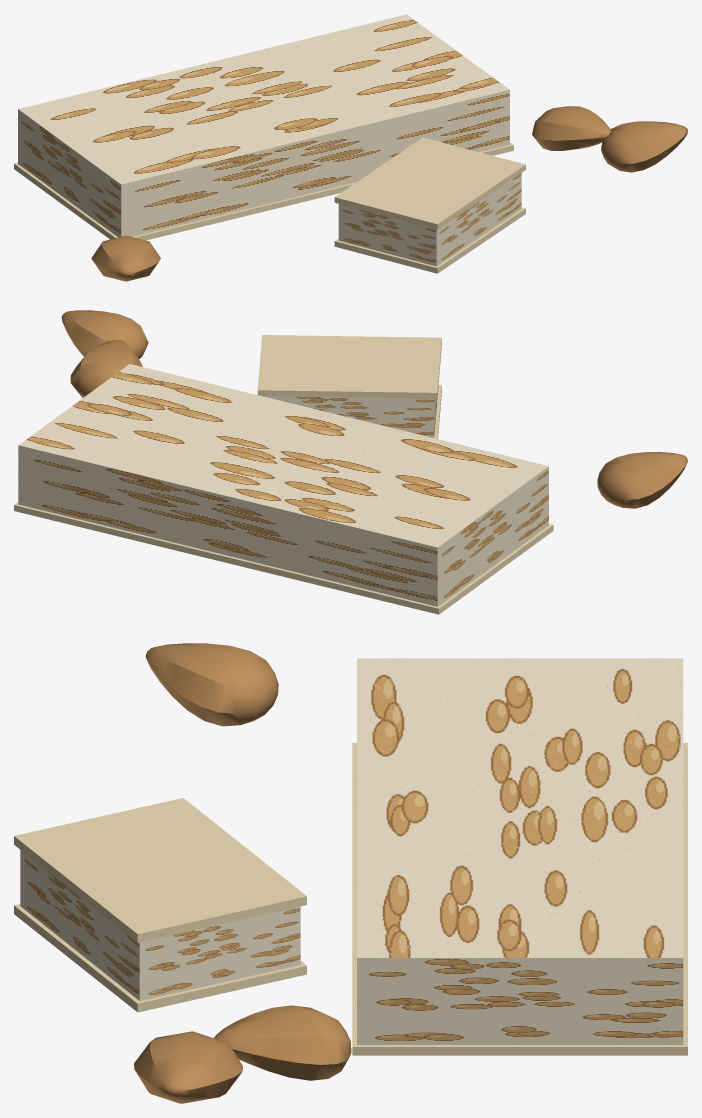
Rendered from Turron.fbx.
3 renders of one model, top to bottom at view 1: azimuth 30°, elevation 25°; view 2: azimuth 150°, elevation 25°; view 3: azimuth 270°, elevation 25°, orthographic. The views are drawn at different scales.
Parts seen in each view (by area): view 1: Turron; view 2: Turron; view 3: Turron.
Boxes of the visible parts, bbox=[...] form: Turron: bbox=[14, 14, 687, 281]; Turron: bbox=[14, 310, 687, 614]; Turron: bbox=[14, 643, 687, 1103].
Size of the model in its own units: 0.2194 by 0.022 by 0.1406.
3 materials, 1 textured.
